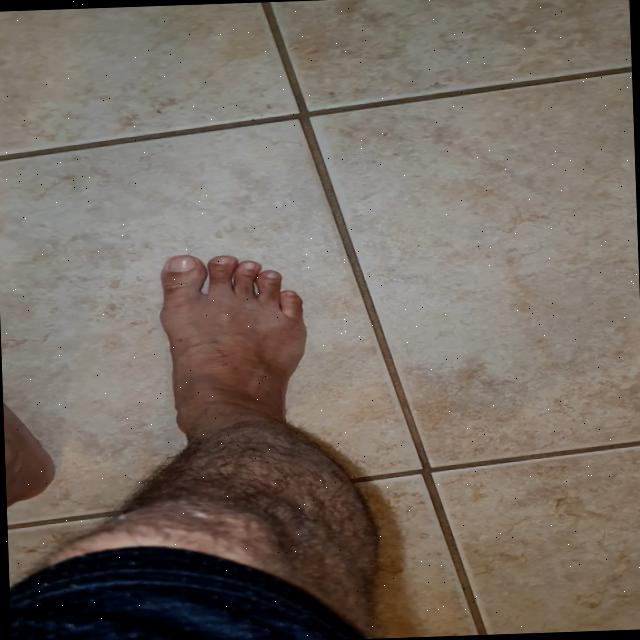no-boots: (148, 242, 327, 452)
